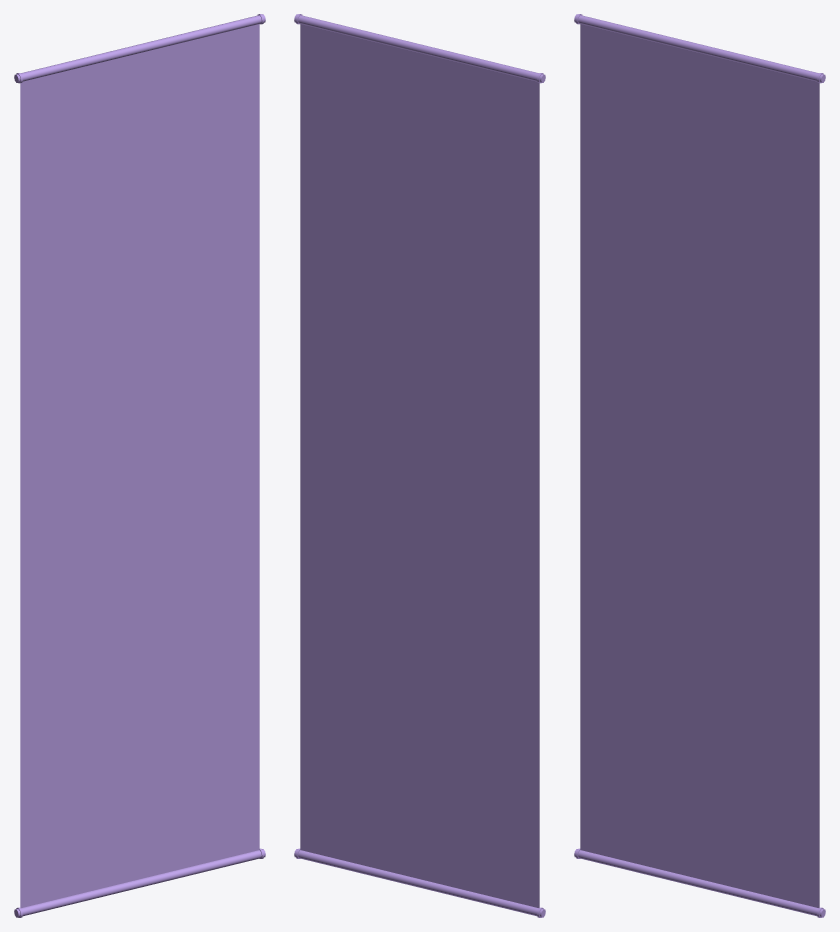
The model's file is SM_Wallscroll_03.fbx.
The picture shows the model from 3 angles, left to right: view 1: azimuth 30°, elevation 25°; view 2: azimuth 150°, elevation 25°; view 3: azimuth 330°, elevation 25°; orthographic projection.
Visible parts, largest first — view 1: Poster c, Cylinder.001, Cylinder; view 2: Poster c, Cylinder.001, Cylinder; view 3: Poster c, Cylinder.001, Cylinder.
Part boxes in pixels (x1,y1,x2,y2): Poster c: [20, 24, 259, 907]; Cylinder.001: [14, 14, 265, 82]; Cylinder: [14, 849, 265, 917]; Poster c: [300, 24, 539, 907]; Cylinder.001: [294, 14, 545, 82]; Cylinder: [294, 849, 545, 917]; Poster c: [580, 24, 819, 907]; Cylinder.001: [574, 14, 825, 82]; Cylinder: [574, 849, 825, 917].
Size of the model in its own units: 62 by 202 by 2.39.
